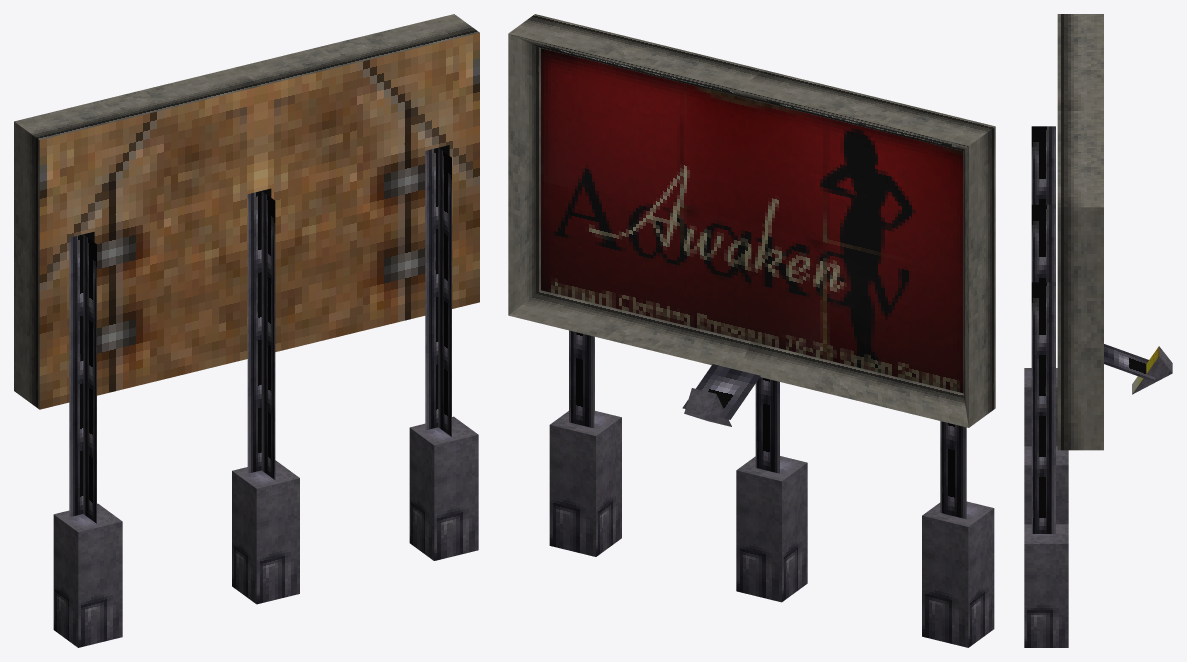
3 views of the same model, side by side, from view 1: azimuth 30°, elevation 25°; view 2: azimuth 150°, elevation 25°; view 3: azimuth 270°, elevation 25° (orthographic). The views are drawn at different scales.
Visible parts, largest first — view 1: prim006-Adsign1.001; view 2: prim006-Adsign1.001; view 3: prim006-Adsign1.001.
Part boxes in pixels (x1=…): prim006-Adsign1.001: x1=14, y1=14, x2=479, y2=647; prim006-Adsign1.001: x1=508, y1=14, x2=995, y2=647; prim006-Adsign1.001: x1=1024, y1=14, x2=1172, y2=647.
Size of the model in its own units: 506 by 548 by 164.
5 materials, 5 textured.
